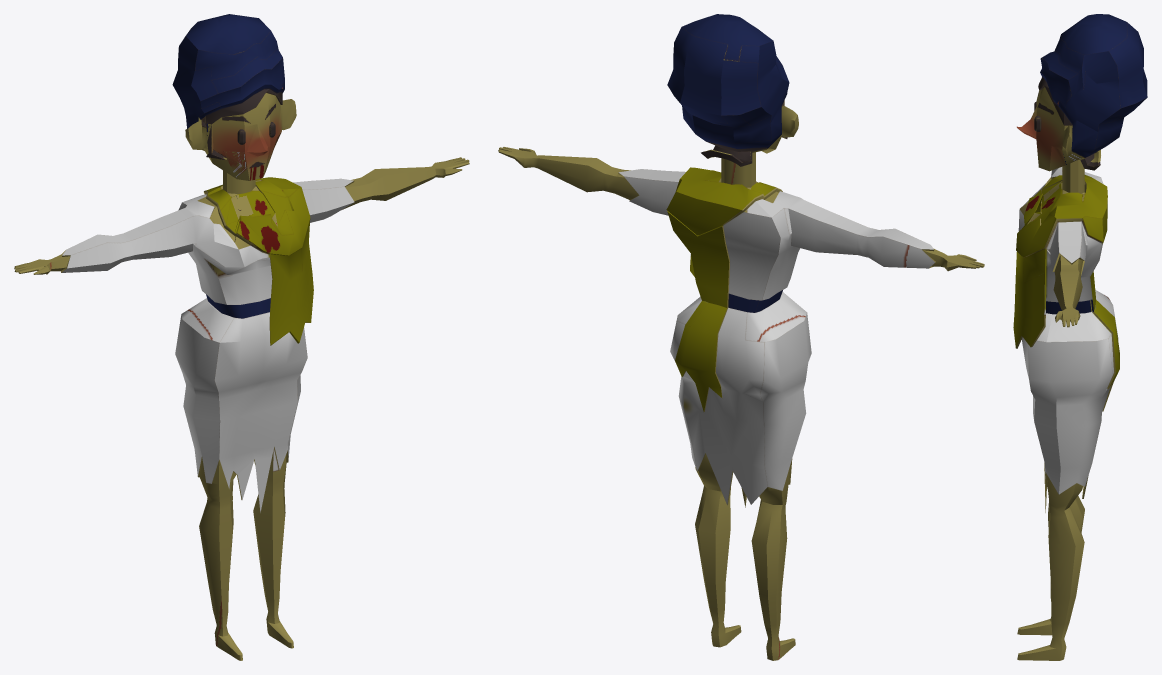
Rendered from gelbfieber_w.fbx.
3 views of the same model, side by side, from view 1: azimuth 30°, elevation 25°; view 2: azimuth 150°, elevation 25°; view 3: azimuth 270°, elevation 25° (orthographic). The views are drawn at different scales.
Parts seen in each view (by area): view 1: Symmetry_1; view 2: Symmetry_1; view 3: Symmetry_1.
Boxes of the visible parts, bbox=[...] form: Symmetry_1: bbox=[14, 14, 469, 660]; Symmetry_1: bbox=[498, 14, 984, 660]; Symmetry_1: bbox=[1013, 14, 1147, 660].
Size of the model in its own units: 310 by 397 by 77.05.
1 material, 1 textured.
